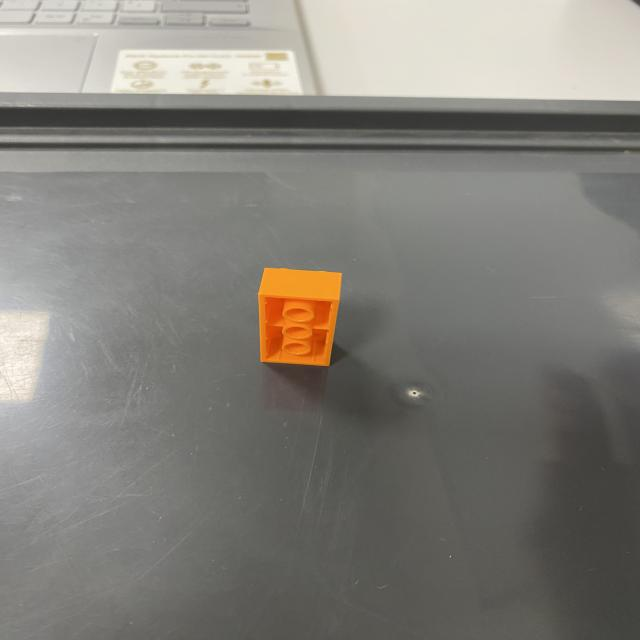C4x2x1: (257, 265, 347, 366)
